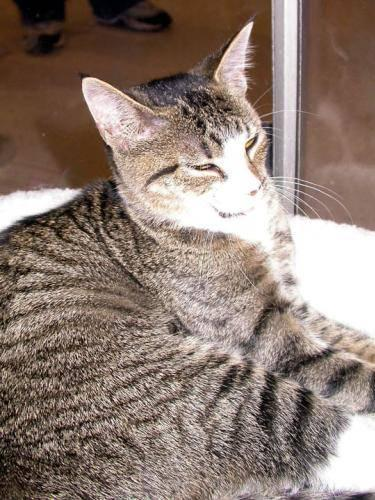cat: (0, 23, 373, 499)
